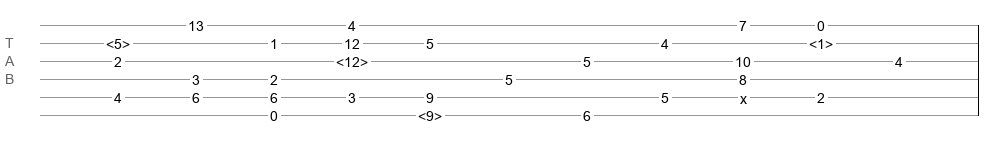0: (270, 108, 278, 118), (817, 18, 825, 28)
1: (270, 36, 278, 46)
10: (735, 54, 751, 64)
12: (344, 36, 360, 46)
13: (188, 18, 204, 28)
2: (114, 54, 122, 64), (270, 72, 278, 82), (817, 90, 825, 100)
3: (192, 72, 200, 82), (348, 90, 356, 100)
4: (114, 90, 122, 100), (348, 18, 356, 28), (661, 36, 669, 46), (895, 54, 903, 64)
5: (426, 36, 434, 46), (505, 72, 513, 82), (583, 54, 591, 64), (661, 90, 669, 100)
6: (192, 90, 200, 100), (270, 90, 278, 100), (583, 108, 591, 118)
7: (739, 18, 747, 28)
8: (739, 72, 747, 82)
9: (426, 90, 434, 100)
harmonic: (336, 54, 368, 64), (106, 36, 130, 46), (418, 108, 442, 118), (809, 36, 833, 46)
x: (740, 91, 747, 99)
